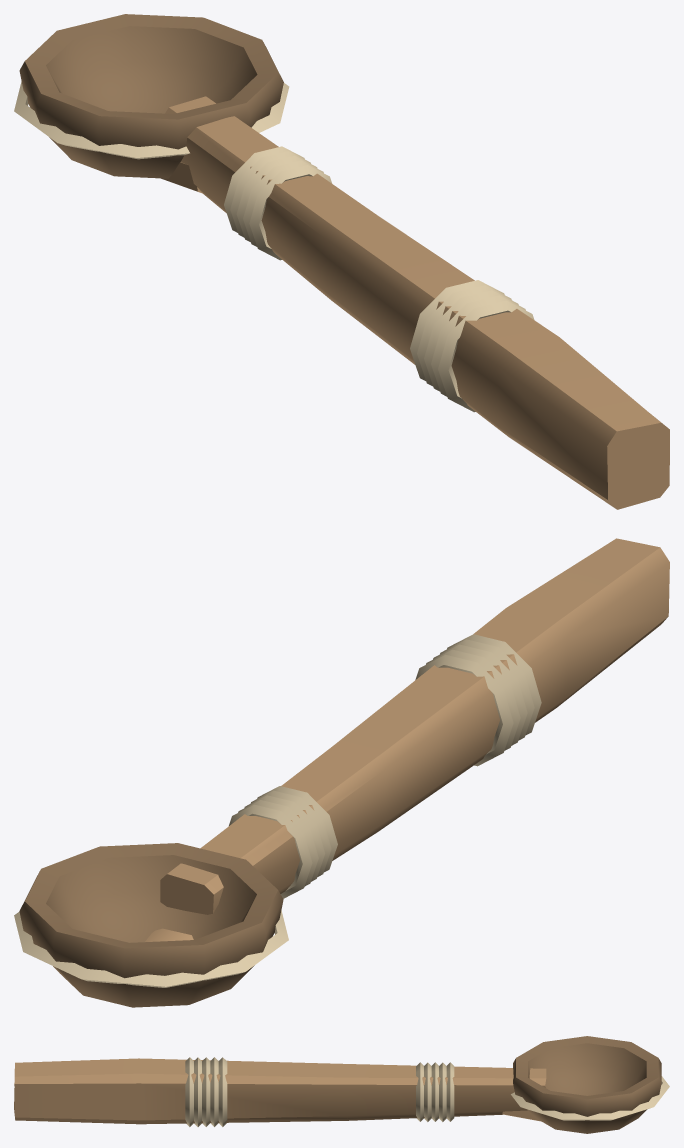
File: CatapultArm.fbx
3 renders of one model, top to bottom at view 1: azimuth 30°, elevation 25°; view 2: azimuth 150°, elevation 25°; view 3: azimuth 270°, elevation 25°, orthographic. The views are drawn at different scales.
Parts seen in each view (by area): view 1: CatapultArm; view 2: CatapultArm; view 3: CatapultArm.
Boxes of the visible parts, x1=… form: CatapultArm: x1=14, y1=14, x2=669, y2=509; CatapultArm: x1=14, y1=538, x2=669, y2=1007; CatapultArm: x1=14, y1=1036, x2=669, y2=1133.
Size of the model in its own units: 0.7551 by 0.3407 by 3.15.
